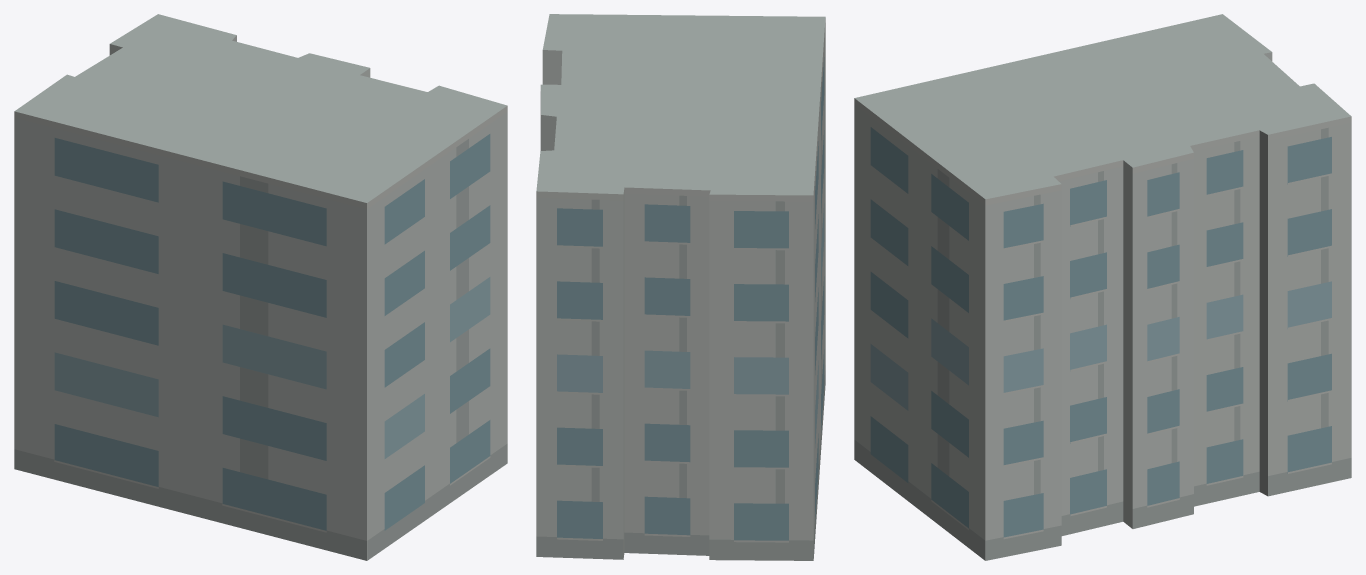
Rendered from survey-upis-32882500.glb.
3 renders of one model, left to right at view 1: azimuth 30°, elevation 25°; view 2: azimuth 150°, elevation 25°; view 3: azimuth 270°, elevation 25°, orthographic. The views are drawn at different scales.
Parts seen in each view (by area): view 1: survey-upis-32882500.tmp; view 2: survey-upis-32882500.tmp; view 3: survey-upis-32882500.tmp.
Part boxes in pixels (x1,y1,x2,y2): survey-upis-32882500.tmp: (14,14,507,560); survey-upis-32882500.tmp: (536,14,825,560); survey-upis-32882500.tmp: (854,14,1351,560).
Bounding box in the file's own units: 15.59 × 14.17 × 17.67.
